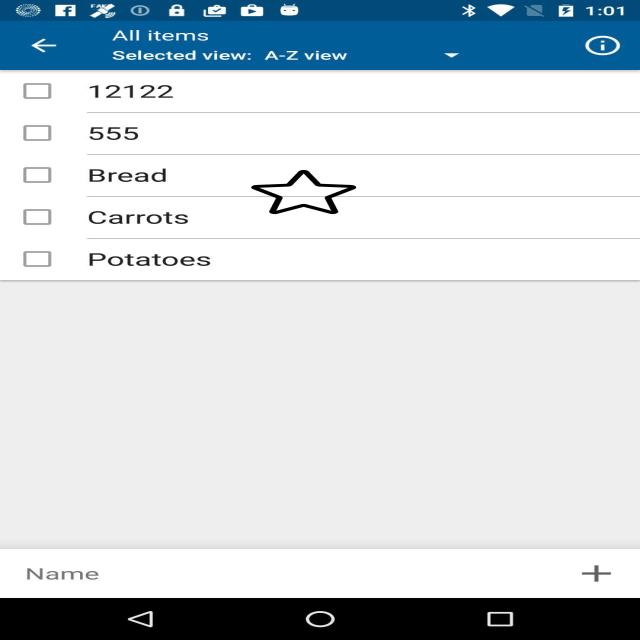forced continuity: (251, 169, 356, 215)
